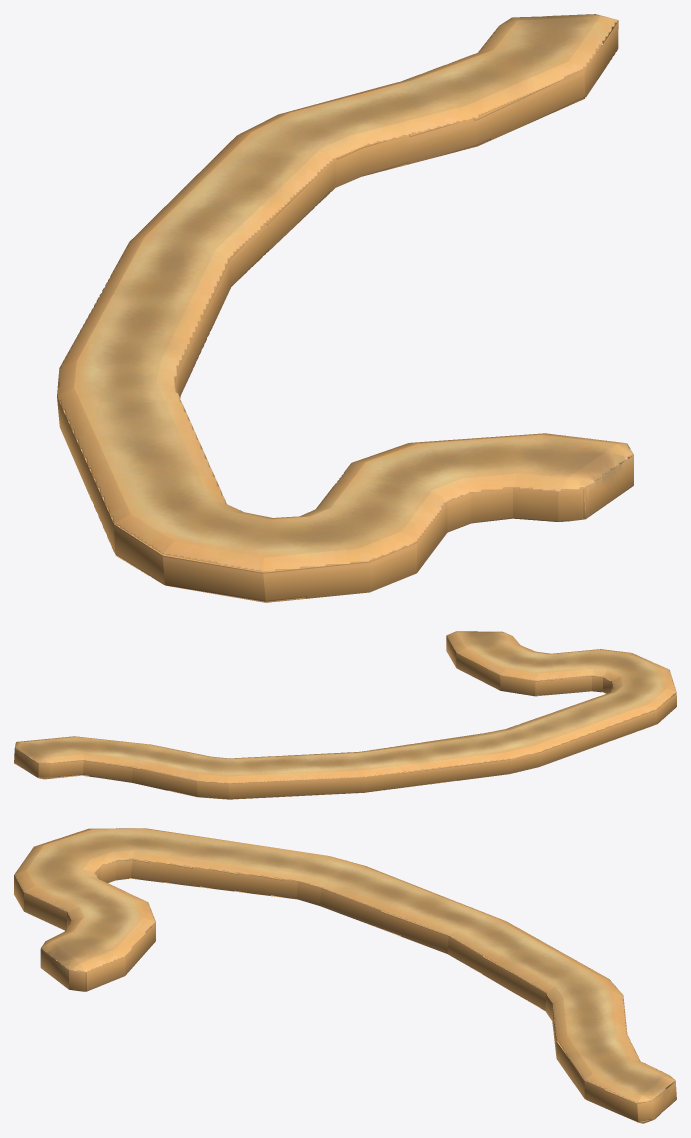
Rendered from TopPath.fbx.
3 renders of one model, top to bottom at view 1: azimuth 30°, elevation 25°; view 2: azimuth 150°, elevation 25°; view 3: azimuth 270°, elevation 25°, orthographic. The views are drawn at different scales.
Parts seen in each view (by area): view 1: TopPath; view 2: TopPath; view 3: TopPath.
Part boxes in pixels (box(x1,y1,x2,y2)): TopPath: box(57, 14, 633, 602); TopPath: box(14, 631, 676, 799); TopPath: box(14, 828, 676, 1123).
Size of the model in its own units: 2556 by 126 by 2591.
